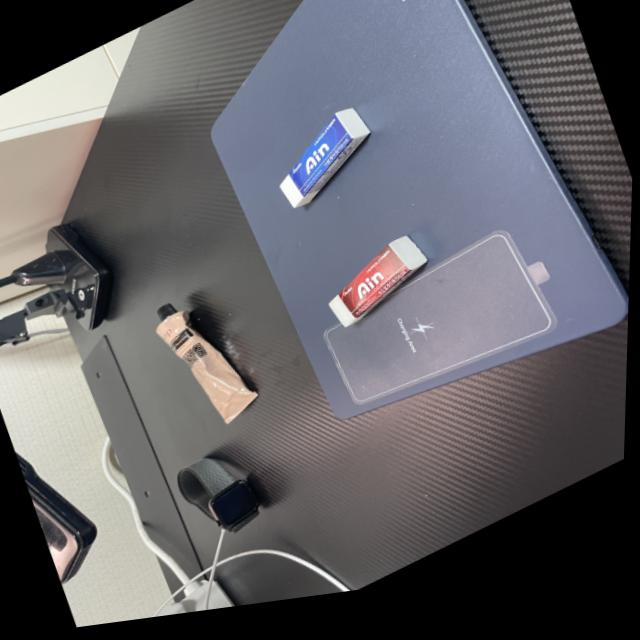blue: (252, 96, 399, 234)
red: (311, 226, 449, 351)
